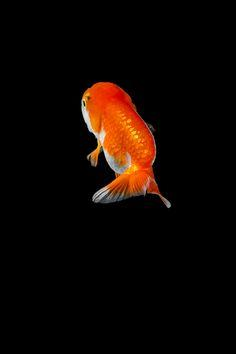goldfish: (58, 69, 193, 225)
